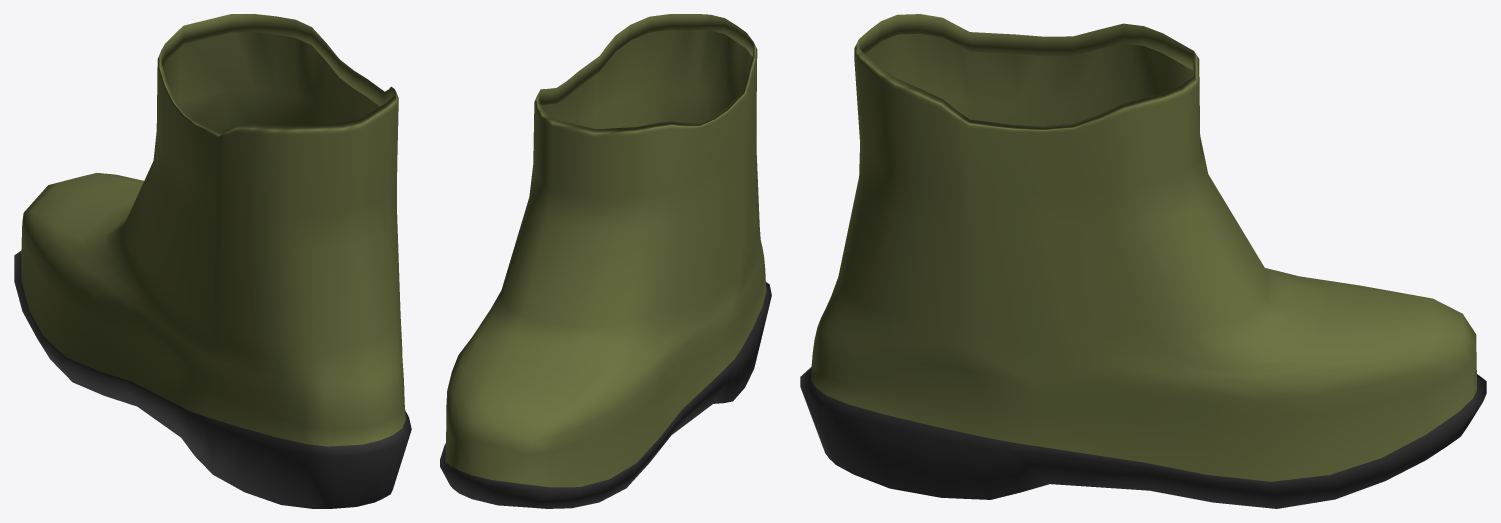
The model's file is Boots.fbx.
3 renders of one model, left to right at view 1: azimuth 30°, elevation 25°; view 2: azimuth 150°, elevation 25°; view 3: azimuth 270°, elevation 25°, orthographic. The views are drawn at different scales.
Parts seen in each view (by area): view 1: boot; view 2: boot; view 3: boot.
Part boxes in pixels (x1,y1,x2,y2): boot: [14, 14, 411, 508]; boot: [440, 14, 771, 508]; boot: [800, 14, 1486, 508].
Size of the model in its own units: 3.78 by 6.59 by 9.84.
